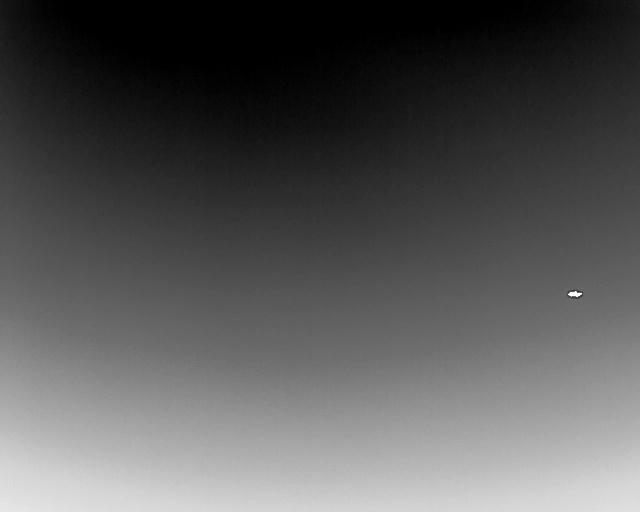fpv-drone: (566, 289, 583, 299)
